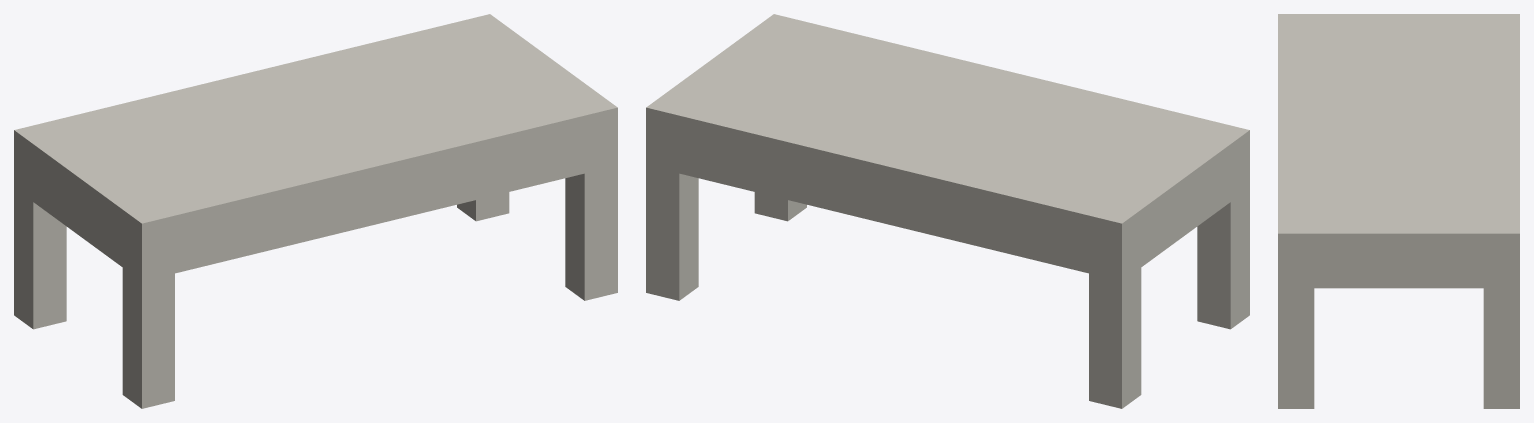
File: white_table1.fbx
3 renders of one model, left to right at view 1: azimuth 30°, elevation 25°; view 2: azimuth 150°, elevation 25°; view 3: azimuth 270°, elevation 25°, orthographic. The views are drawn at different scales.
Visible parts, largest first — view 1: Cube; view 2: Cube; view 3: Cube.
Boxes of the visible parts, <box> form: Cube: <box>14,14,617,408</box>; Cube: <box>646,14,1249,408</box>; Cube: <box>1278,14,1519,408</box>.
Bounding box in the file's own units: 430 × 160 × 200.
